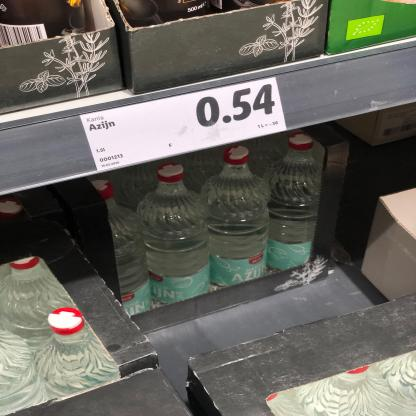prtg: (80, 78, 288, 172)
